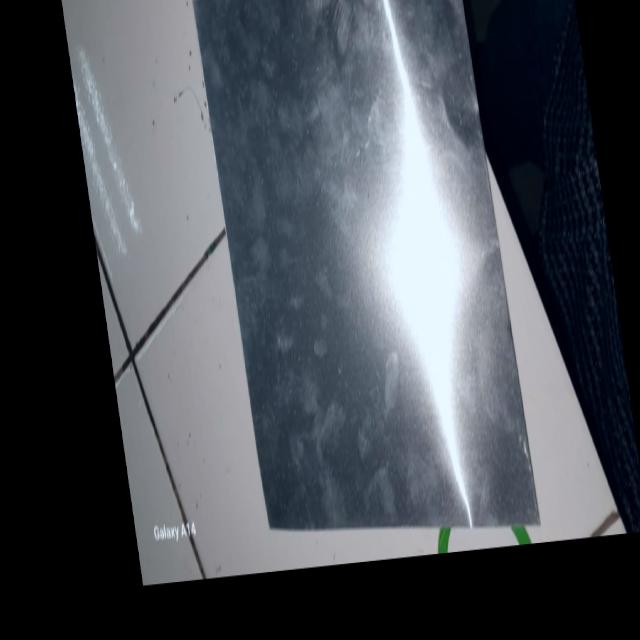TLC Plate: (186, 0, 538, 529)
